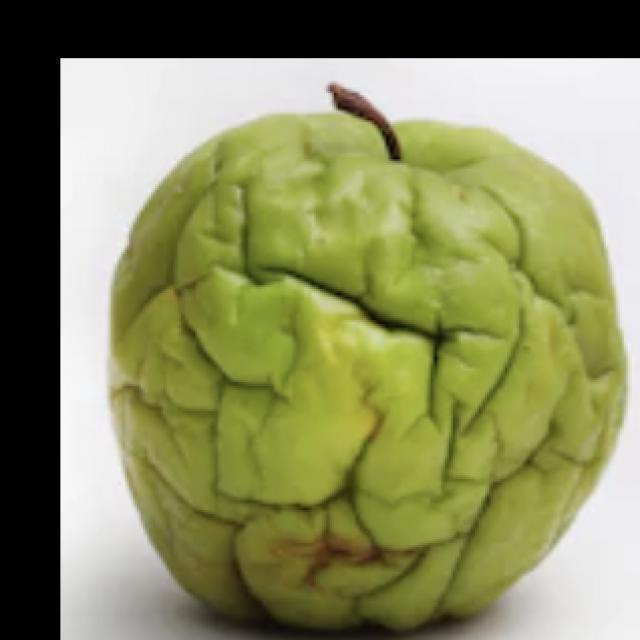Rotten: (105, 102, 627, 640)
